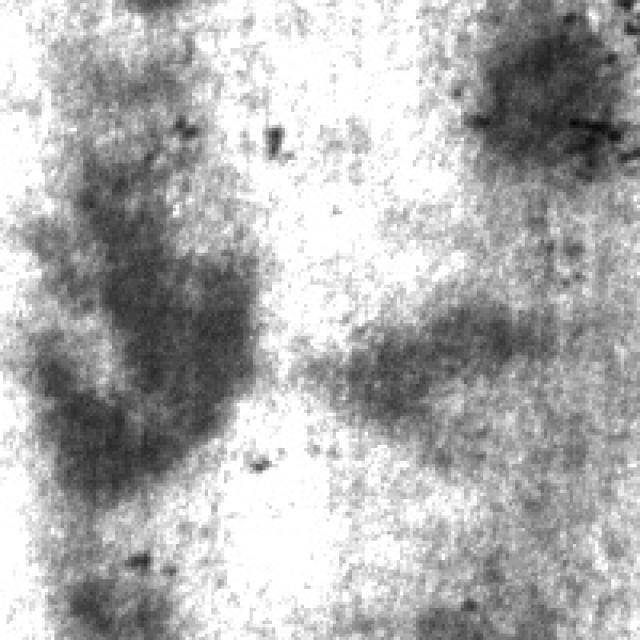patches: (19, 115, 269, 499), (326, 291, 525, 429), (467, 0, 618, 173)
